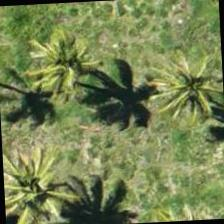Kelapa_Sawit: (0, 26, 95, 122), (146, 48, 223, 143), (2, 149, 83, 223)
